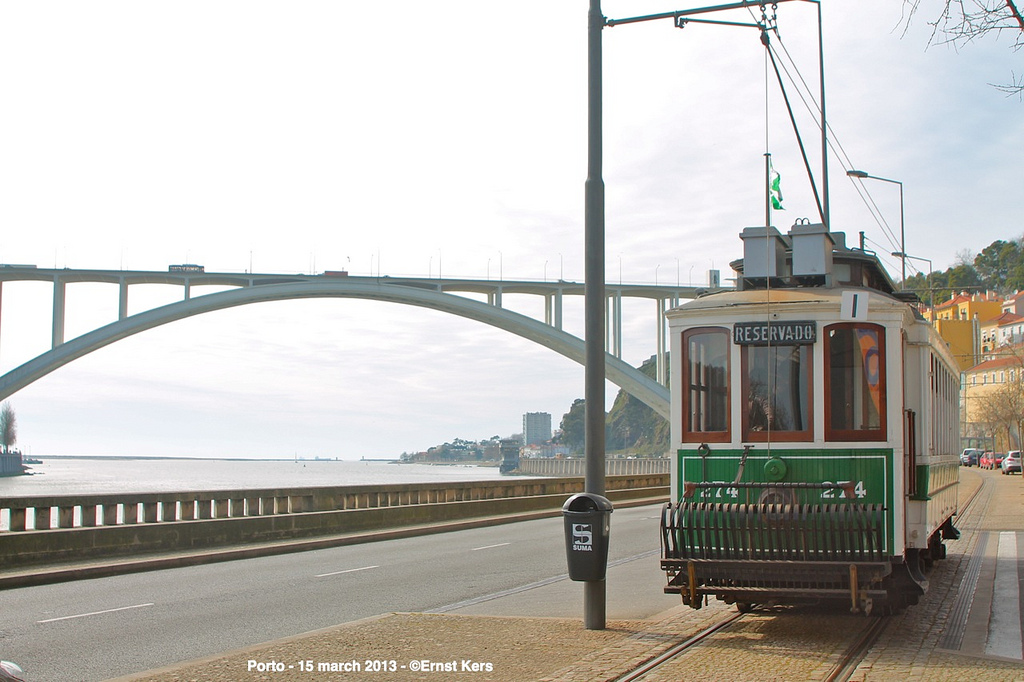arrabida: (0, 261, 739, 447)
